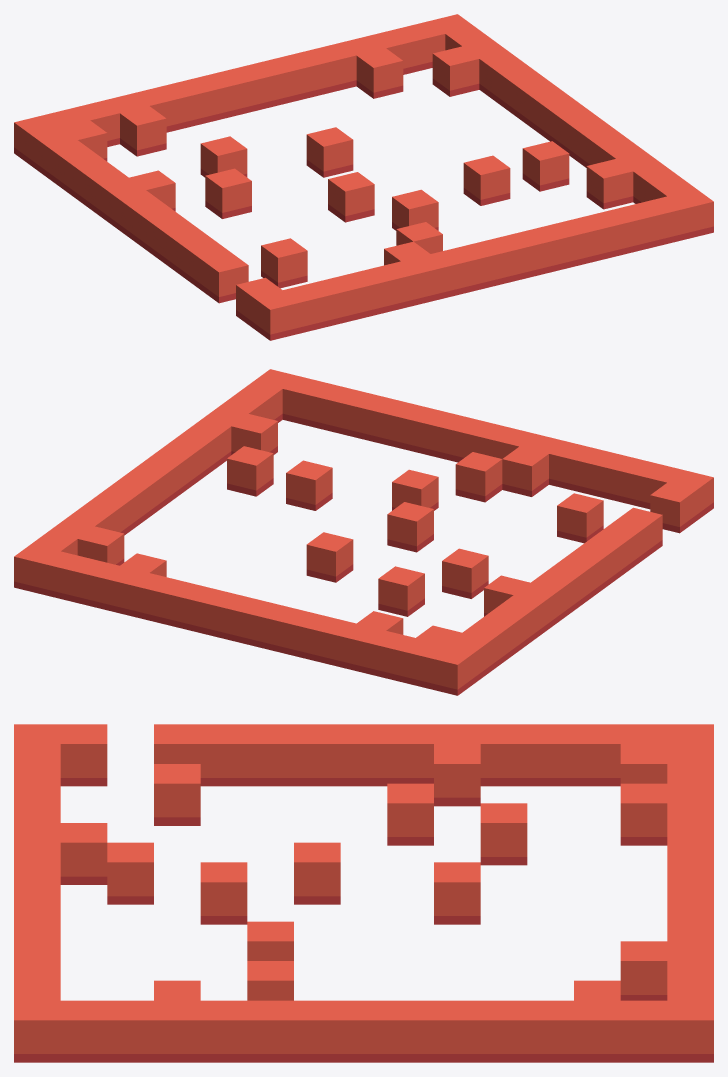
Rendered from map9.obj.
3 renders of one model, top to bottom at view 1: azimuth 30°, elevation 25°; view 2: azimuth 150°, elevation 25°; view 3: azimuth 270°, elevation 25°, orthographic. The views are drawn at different scales.
Visible parts, largest first — view 1: mergedBlocks; view 2: mergedBlocks; view 3: mergedBlocks.
Boxes of the visible parts, <box> form: mergedBlocks: <box>14,14,713,340</box>; mergedBlocks: <box>14,369,713,695</box>; mergedBlocks: <box>14,724,713,1062</box>.
Size of the model in its own units: 15 by 1 by 15.
